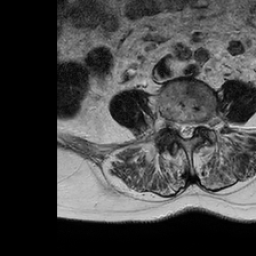CCS_normal: (182, 115, 188, 147)
LFS_severe_stenosis: (195, 110, 202, 136)
LLS_normal: (188, 115, 195, 145)
RFS_normal: (168, 112, 176, 136)
RLS_normal: (176, 114, 182, 144)
